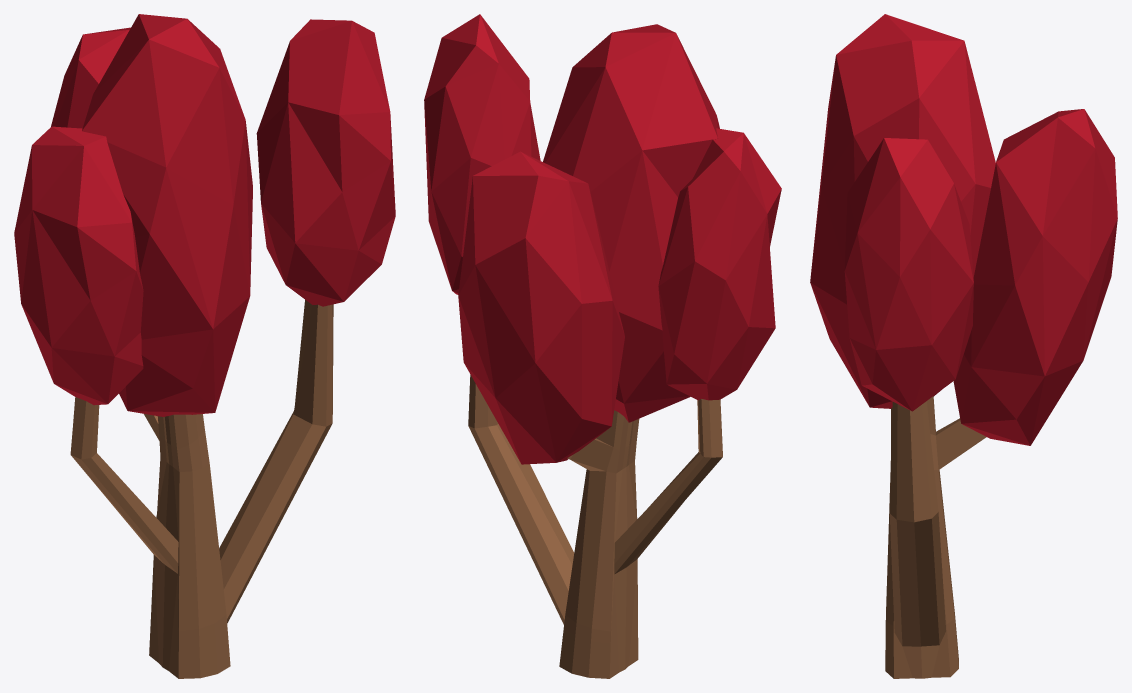
File: tree-dead-complete-13-005.glb
3 renders of one model, left to right at view 1: azimuth 30°, elevation 25°; view 2: azimuth 150°, elevation 25°; view 3: azimuth 270°, elevation 25°, orthographic. The views are drawn at different scales.
Visible parts, largest first — view 1: TREE 13.007_503, TREE 13.006_504; view 2: TREE 13.007_503, TREE 13.006_504; view 3: TREE 13.007_503, TREE 13.006_504.
Boxes of the visible parts, bbox=[...] form: TREE 13.007_503: bbox=[14, 14, 395, 416]; TREE 13.006_504: bbox=[70, 300, 333, 678]; TREE 13.007_503: bbox=[424, 14, 781, 464]; TREE 13.006_504: bbox=[468, 374, 722, 678]; TREE 13.007_503: bbox=[810, 14, 1117, 445]; TREE 13.006_504: bbox=[885, 396, 986, 678].
Size of the model in its own units: 0.9813 by 1.74 by 0.7767.
